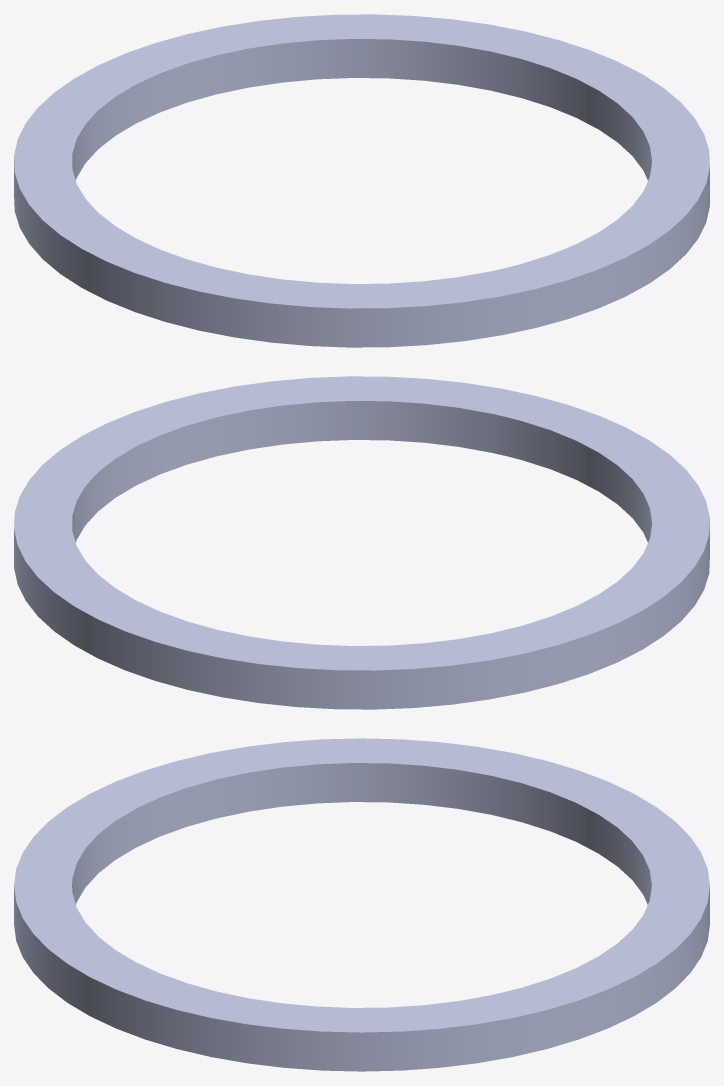
Rendered from UA_26EV_Gearbox__UA_26EV_Input_Shaft_Spacer_1.dae.
The picture shows the model from 3 angles, top to bottom: view 1: azimuth 30°, elevation 25°; view 2: azimuth 150°, elevation 25°; view 3: azimuth 270°, elevation 25°; orthographic projection.
Visible parts, largest first — view 1: node0; view 2: node0; view 3: node0.
Boxes of the visible parts, x1,y1,x2,y2 form: node0: (14, 14, 709, 347); node0: (14, 376, 709, 709); node0: (14, 738, 709, 1071).
Bounding box in the file's own units: 0.042 × 0.0026 × 0.042.
